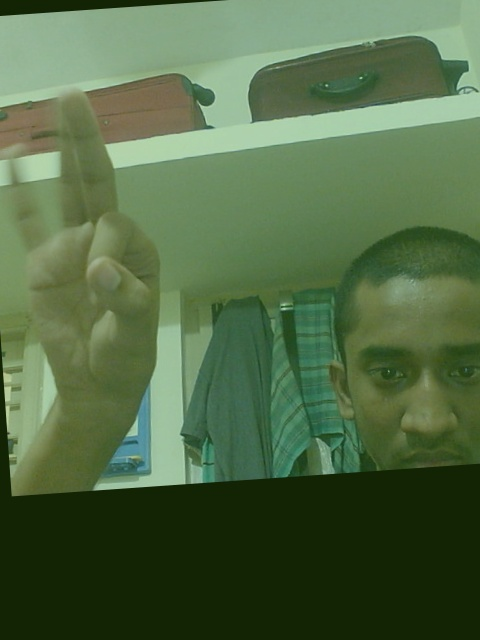hand: (7, 90, 168, 427)
